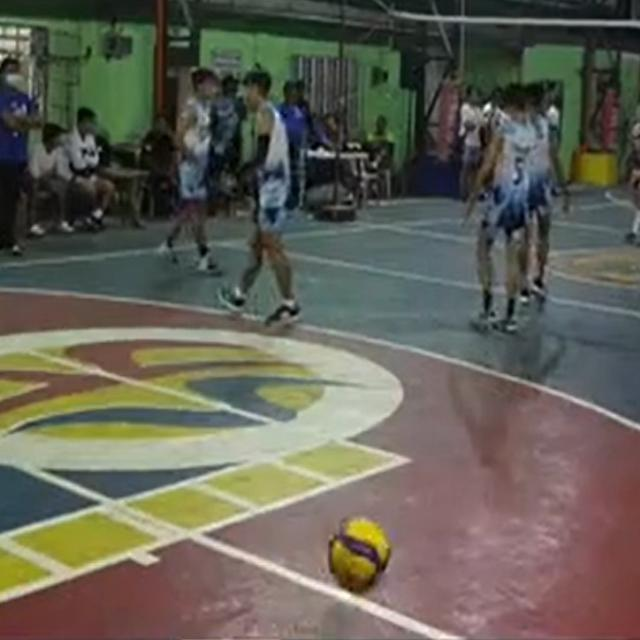volleyball: (328, 517, 390, 594)
